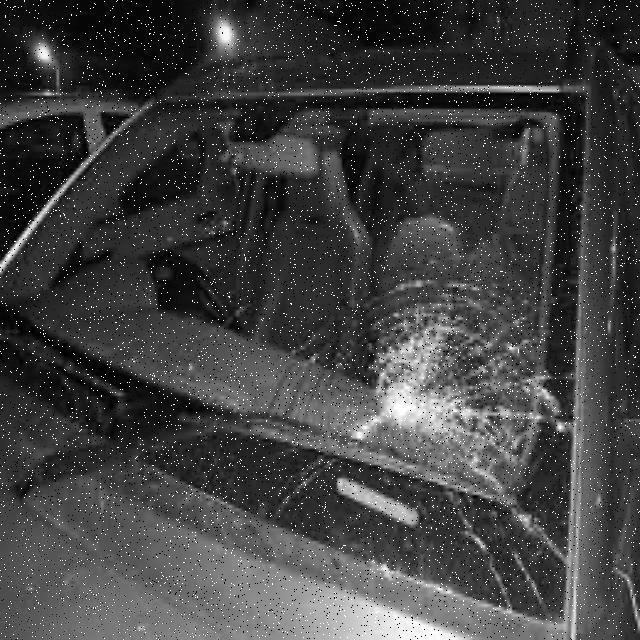Front-windscreen-damage: (7, 100, 595, 637)
